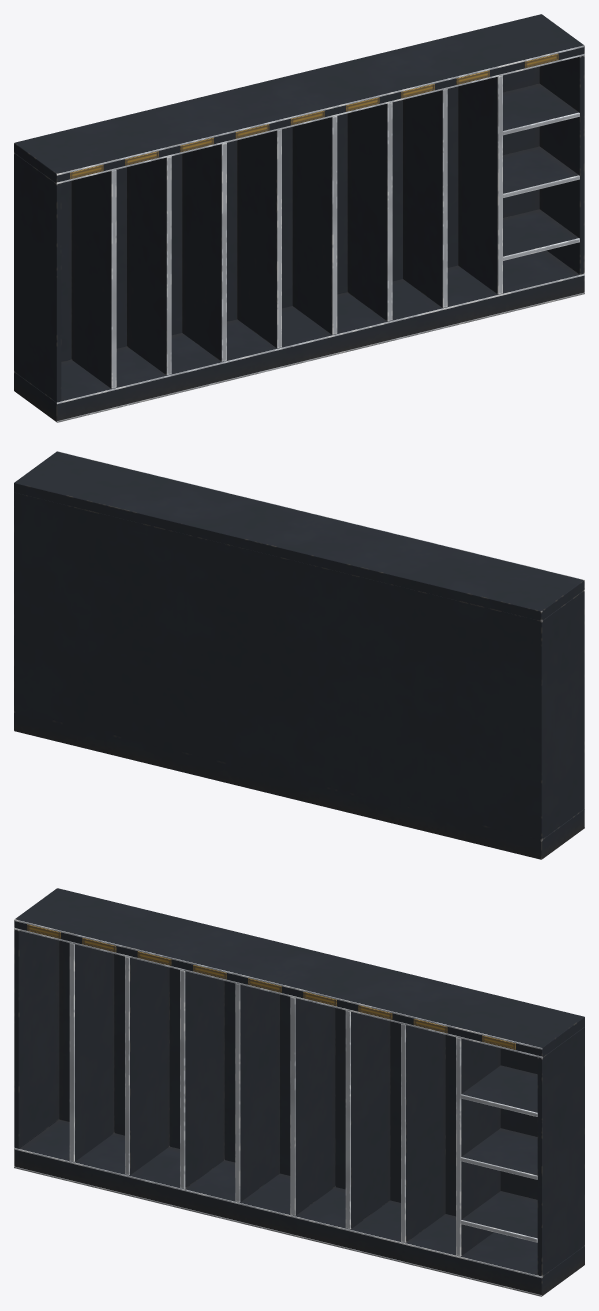
The model's file is evidence_store.glb.
3 renders of one model, top to bottom at view 1: azimuth 30°, elevation 25°; view 2: azimuth 150°, elevation 25°; view 3: azimuth 330°, elevation 25°, orthographic.
Parts seen in each view (by area): view 1: Batch_0; view 2: Batch_0; view 3: Batch_0.
Part boxes in pixels (x1,y1,x2,y2): Batch_0: (14, 14, 584, 422); Batch_0: (14, 451, 584, 859); Batch_0: (14, 888, 584, 1296).
Size of the model in its own units: 4.4 by 1.98 by 0.624.
Materials: 1 (1 with a texture image).
